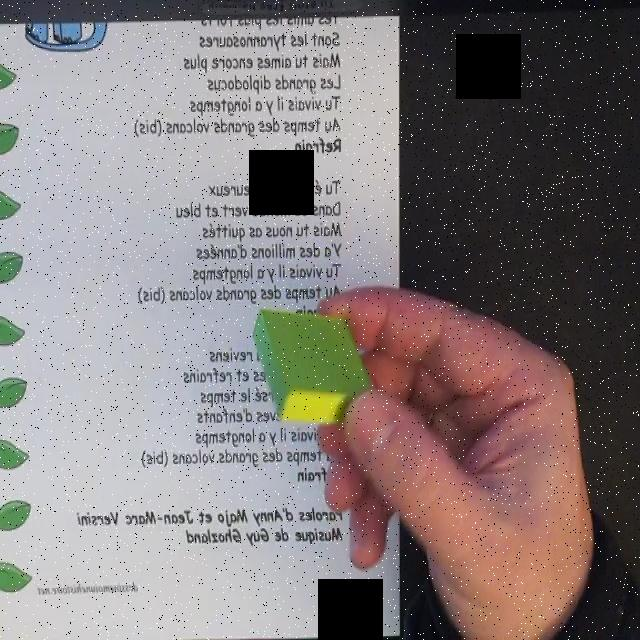square: (252, 307, 374, 424)
